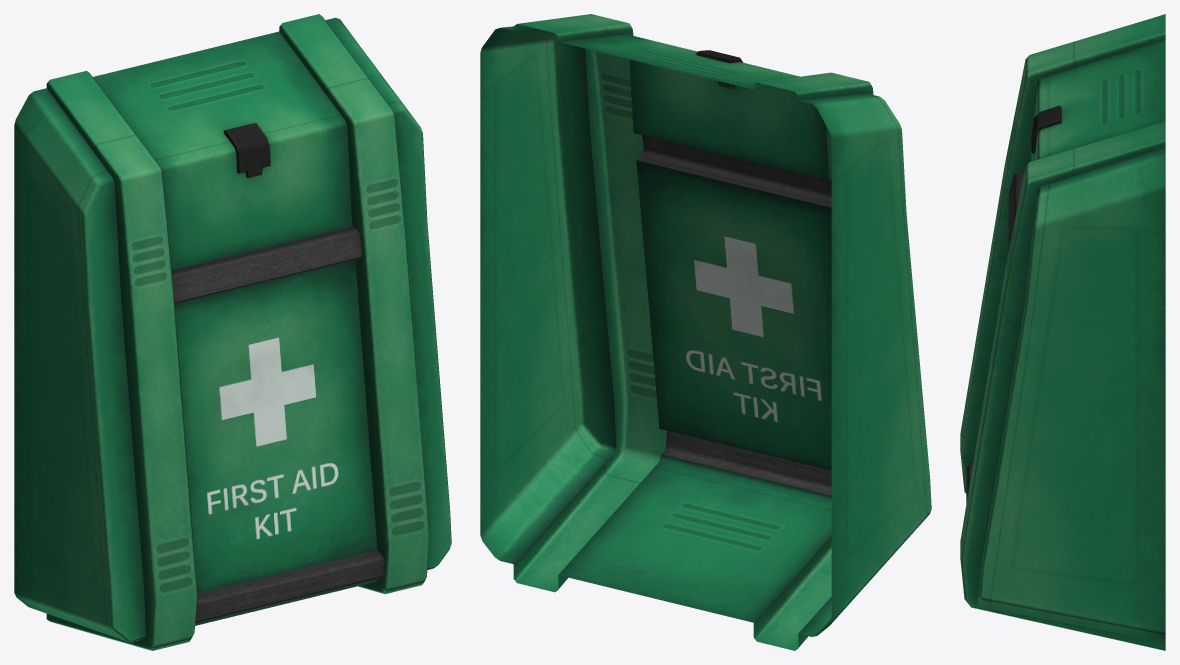
Rendered from first_aid_kit_wall.dae.
The picture shows the model from 3 angles, left to right: view 1: azimuth 30°, elevation 25°; view 2: azimuth 150°, elevation 25°; view 3: azimuth 270°, elevation 25°; orthographic projection. The views are drawn at different scales.
Visible parts, largest first — view 1: polySurface248; view 2: polySurface248; view 3: polySurface248.
Part boxes in pixels (x1=…): polySurface248: x1=14, y1=14, x2=451, y2=650; polySurface248: x1=480, y1=14, x2=931, y2=650; polySurface248: x1=960, y1=14, x2=1165, y2=650.
Size of the model in its own units: 58.13 by 88.38 by 32.1.
